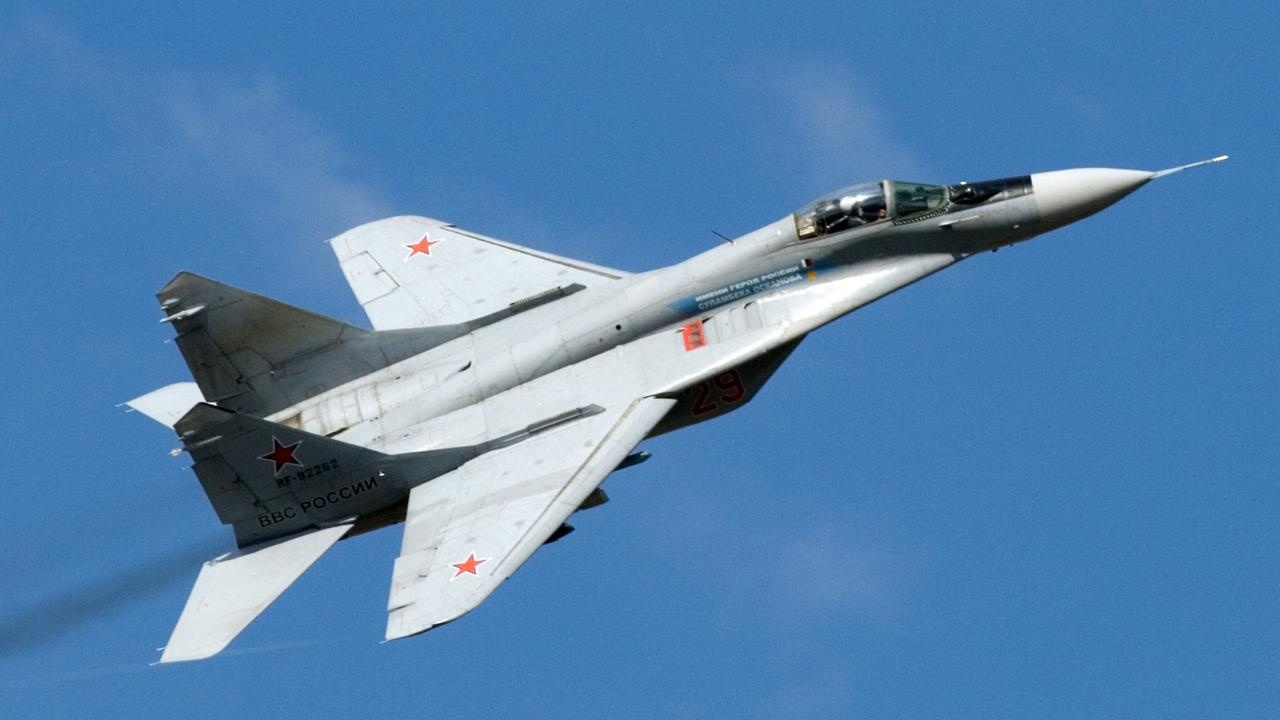aircraft: (104, 155, 1206, 655)
